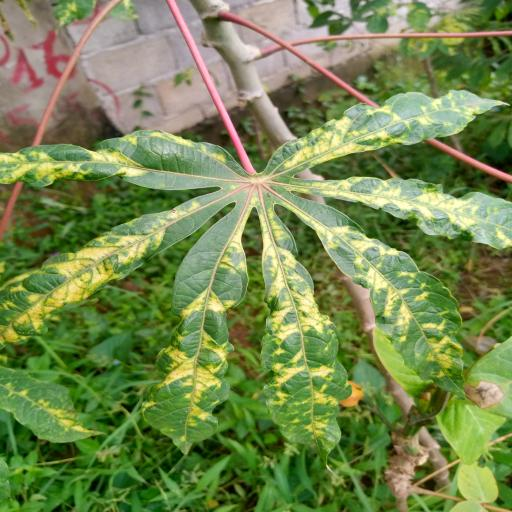Cassava_Mosaic: (0, 87, 512, 456)
